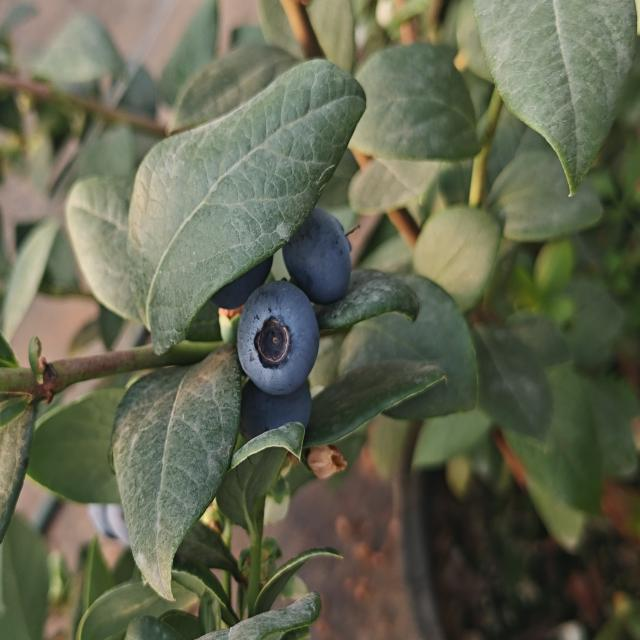ripe: (224, 270, 312, 386), (280, 204, 370, 308), (231, 368, 314, 461), (200, 230, 280, 312), (74, 479, 137, 551)
